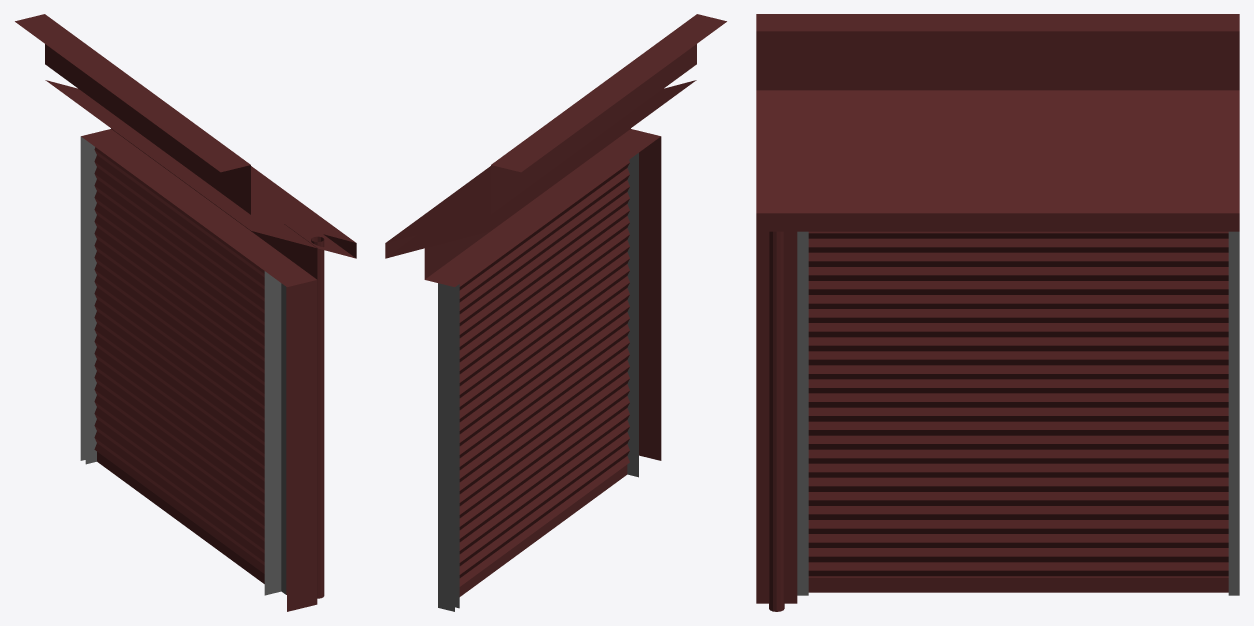
Rendered from ShedFront_Closed.fbx.
3 views of the same model, side by side, from view 1: azimuth 30°, elevation 25°; view 2: azimuth 150°, elevation 25°; view 3: azimuth 270°, elevation 25° (orthographic). The views are drawn at different scales.
Visible parts, largest first — view 1: ShedFront.Closed; view 2: ShedFront.Closed; view 3: ShedFront.Closed.
Boxes of the visible parts, box(x1,y1,x2,y2) form: ShedFront.Closed: box(15, 14, 356, 611); ShedFront.Closed: box(385, 14, 726, 611); ShedFront.Closed: box(756, 14, 1239, 611).
Bounding box in the file's own units: 1.31 × 3.45 × 4.21.
